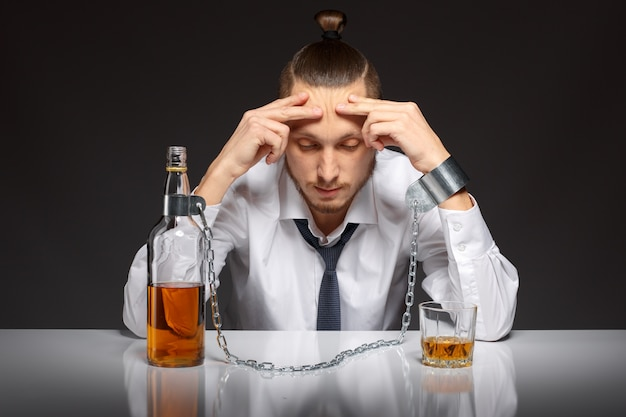alcohol: (147, 148, 208, 369), (416, 298, 479, 368)
